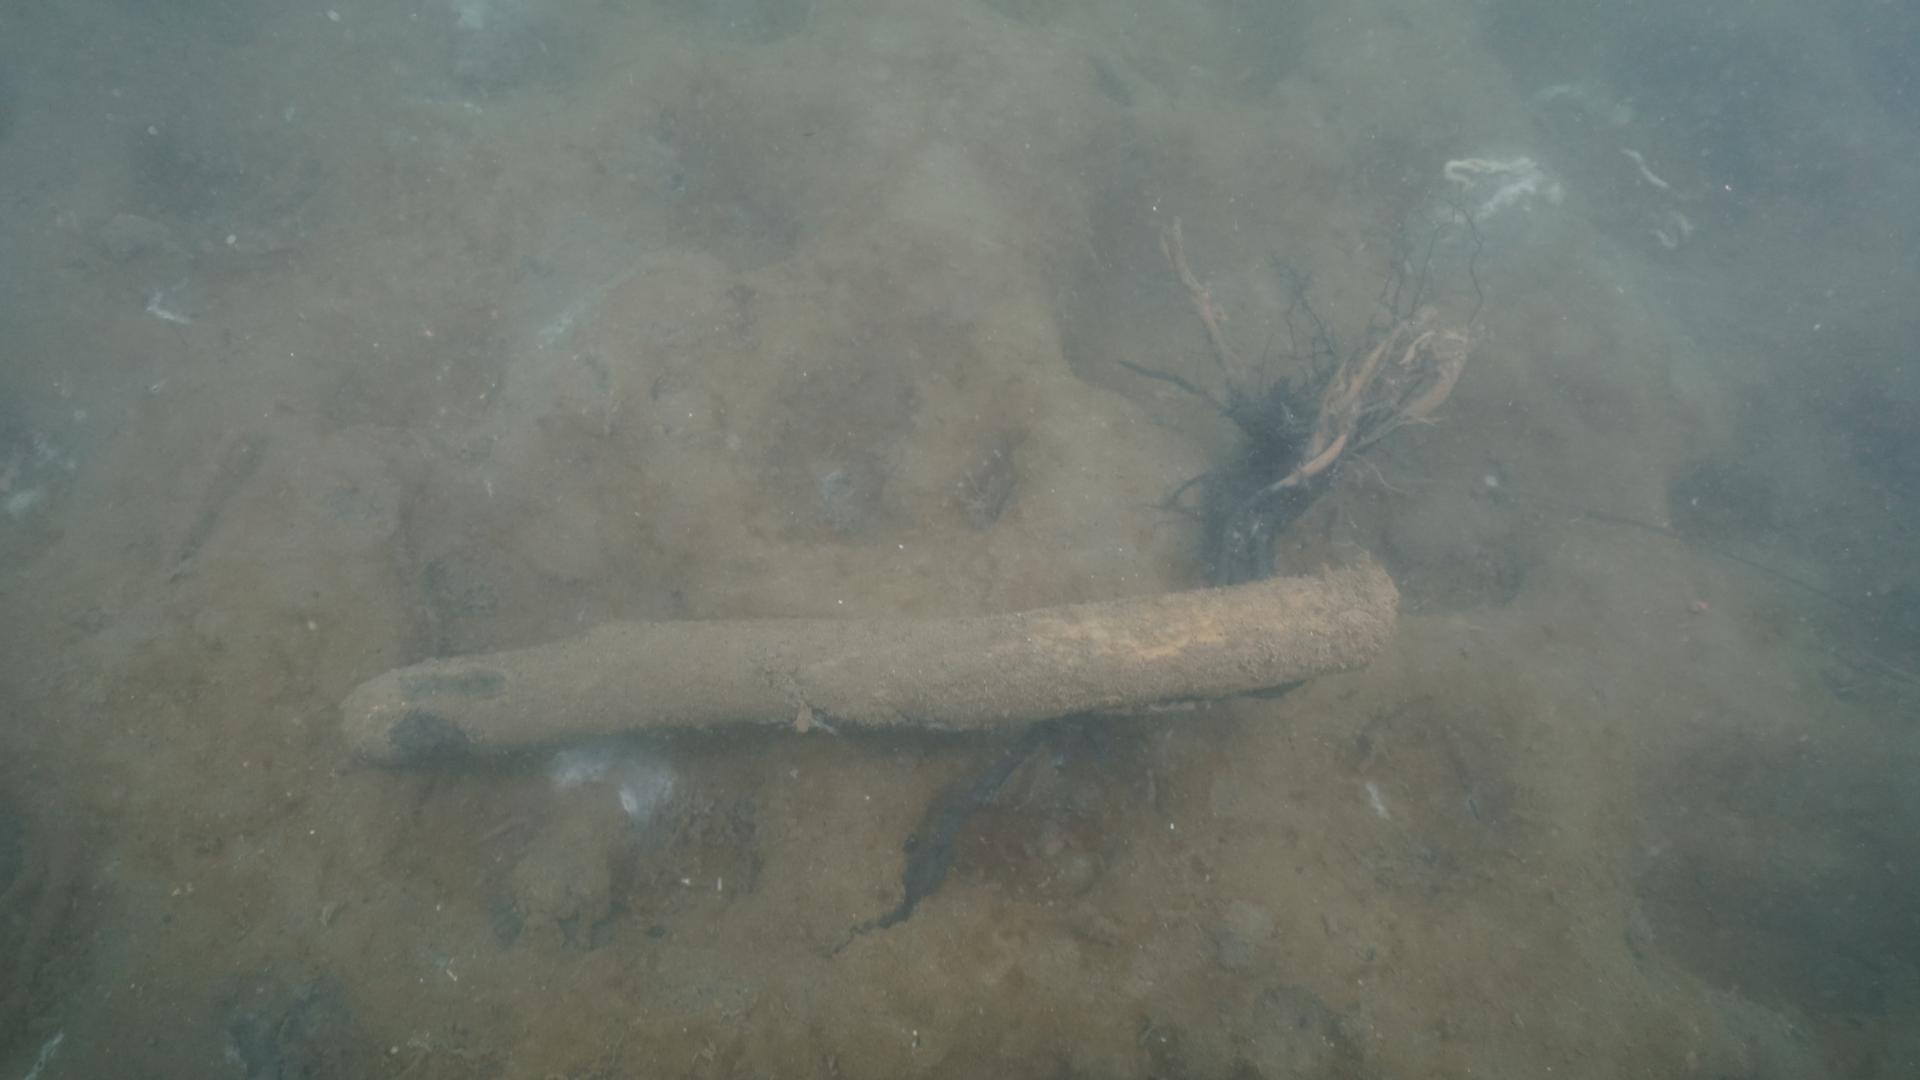wood: (342, 563, 1396, 764)
